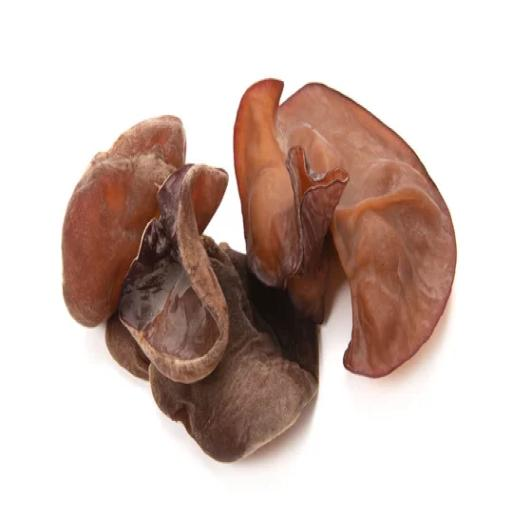Wood Ear Mushroom: (230, 78, 458, 382), (48, 109, 233, 379), (117, 247, 327, 462)
